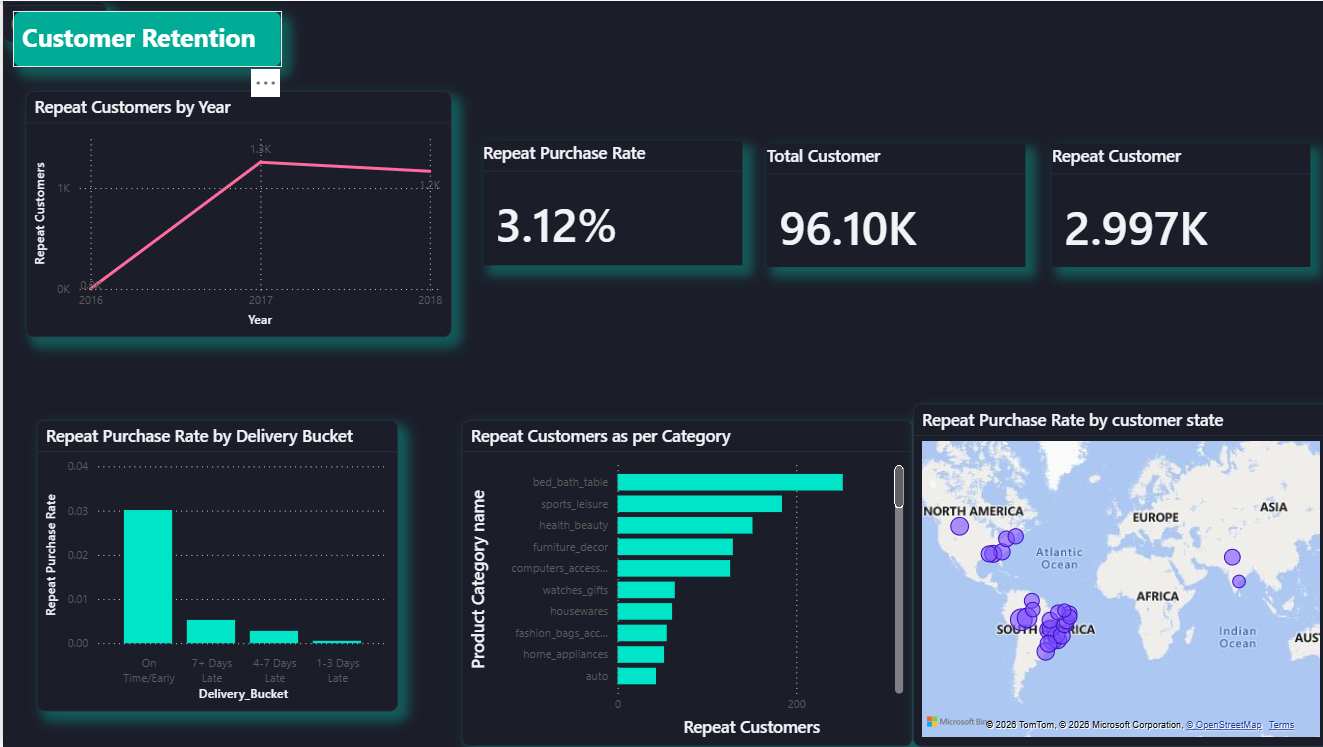

This screenshot's page, from the dashboard's own definition file:
{"tool":"powerbi","page":{"name":"Retention","canvas":[1280,720],"ordinal":3},"visuals":[{"type":"cardVisual","title":"Repeat Customer","fields":{"Data":["Table.Measure 2"]},"box":[1012.2,137.5,249.7,119.4],"z":0},{"type":"cardVisual","title":"Total Customer","fields":{"Data":["Table.Total Customers"]},"box":[737.1,137.5,249.7,119.4],"z":1000},{"type":"cardVisual","title":"Repeat Purchase Rate","fields":{"Data":["Table.Repeat Purchase Rate"]},"box":[463.3,135.1,250,120],"z":2000},{"type":"actionButton","box":[0,0,100.1,39.8],"z":3000},{"type":"clusteredBarChart","title":"Repeat Customers as per Category","fields":{"Y":["Table.Repeat Customers"],"Category":["name_clean.product_category_name_english"]},"box":[442.7,404.8,435.3,315.5],"z":4000},{"type":"clusteredColumnChart","title":"Repeat Purchase Rate by Delivery Bucket","fields":{"Category":["orders_cleaned.Delivery_Bucket"],"Y":["Table.Repeat Purchase Rate"]},"box":[33,404.8,348.5,281.3],"z":5000},{"type":"map","title":"Repeat Purchase Rate by customer state","fields":{"Category":["customer.customer_state"],"Size":["Table.Repeat Purchase Rate"]},"box":[878,388.9,402.3,331.4],"z":6000},{"type":"lineChart","fields":{"Category":["orders_cleaned.pur_date.Variation.Date Hierarchy.Year","orders_cleaned.pur_date.Variation.Date Hierarchy.Month"],"Y":["Table.Repeat Customers"]},"box":[21.7,86.9,411.4,237.7],"z":7000},{"type":"textbox","title":"Product Portfolio Optimization & Revenue Contribution","box":[9.7,9.7,259.4,54.3],"z":8000}]}

Visuals, with their boxes in screenshot pixels (x1, y1, x2, y2), scaled from the page's 1280x720 canvas onto the 1323x747 screenshot:
"Repeat Customer" cardVisual: <box>1046,143,1304,267</box>
"Total Customer" cardVisual: <box>762,143,1020,267</box>
"Repeat Purchase Rate" cardVisual: <box>479,140,737,265</box>
actionButton: <box>0,0,103,41</box>
"Repeat Customers as per Category" clusteredBarChart: <box>458,420,907,746</box>
"Repeat Purchase Rate by Delivery Bucket" clusteredColumnChart: <box>34,420,394,712</box>
"Repeat Purchase Rate by customer state" map: <box>907,403,1322,746</box>
lineChart - orders_cleaned.pur_date.Variation.Date Hierarchy.Year x orders_cleaned.pur_date.Variation.Date Hierarchy.Month: <box>22,90,448,337</box>
"Product Portfolio Optimization & Revenue Contribution" textbox: <box>10,10,278,66</box>
